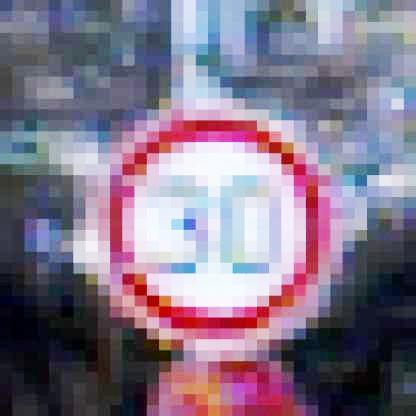Speed Limit -30-: (85, 108, 339, 350)
